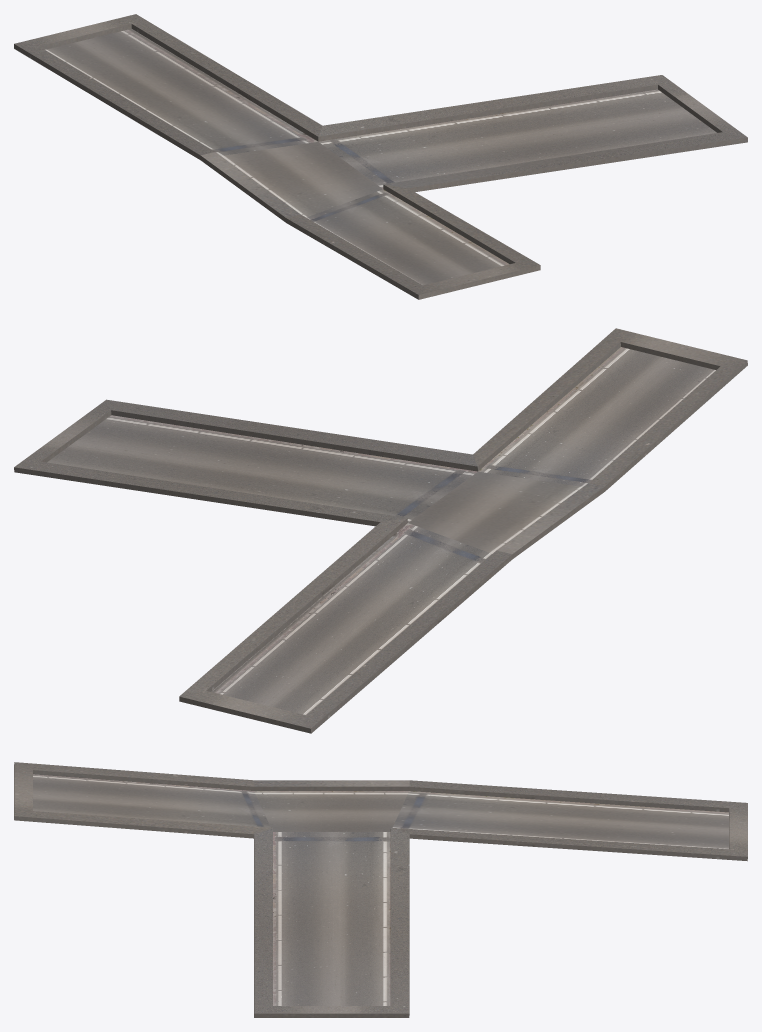
Rendered from PS1Road.fbx.
The picture shows the model from 3 angles, top to bottom: view 1: azimuth 30°, elevation 25°; view 2: azimuth 150°, elevation 25°; view 3: azimuth 270°, elevation 25°; orthographic projection. The views are drawn at different scales.
Parts seen in each view (by area): view 1: Plane; view 2: Plane; view 3: Plane.
Boxes of the visible parts, bbox=[...] form: Plane: bbox=[14, 14, 747, 299]; Plane: bbox=[14, 328, 747, 733]; Plane: bbox=[14, 762, 747, 1017].
Size of the model in its own units: 757 by 88.98 by 1149.
